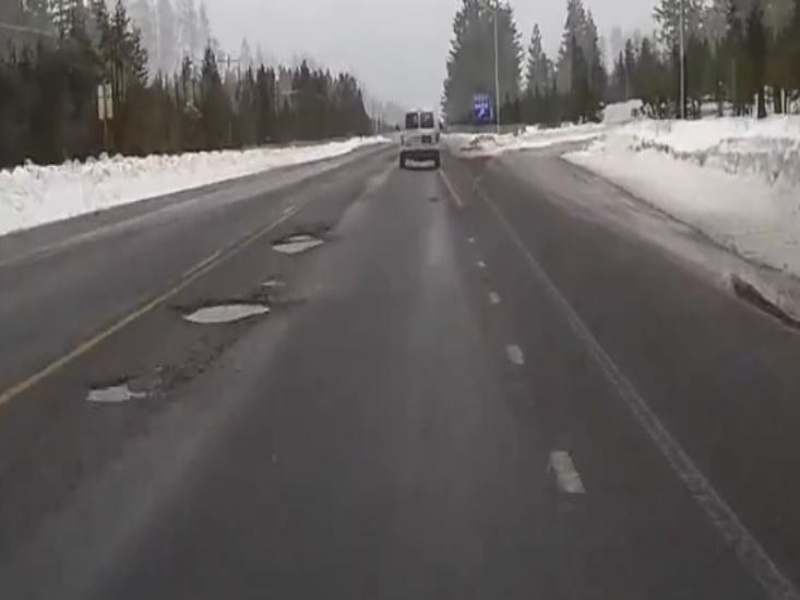pothole: (174, 297, 276, 326), (82, 375, 155, 406), (263, 229, 331, 257)
